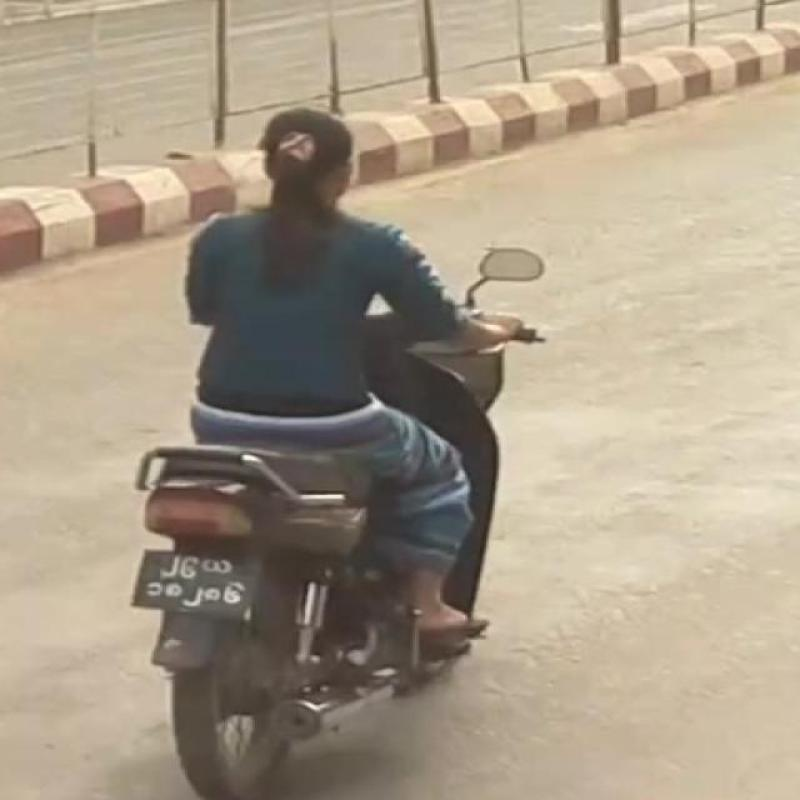nohelmet: (247, 93, 441, 241)
